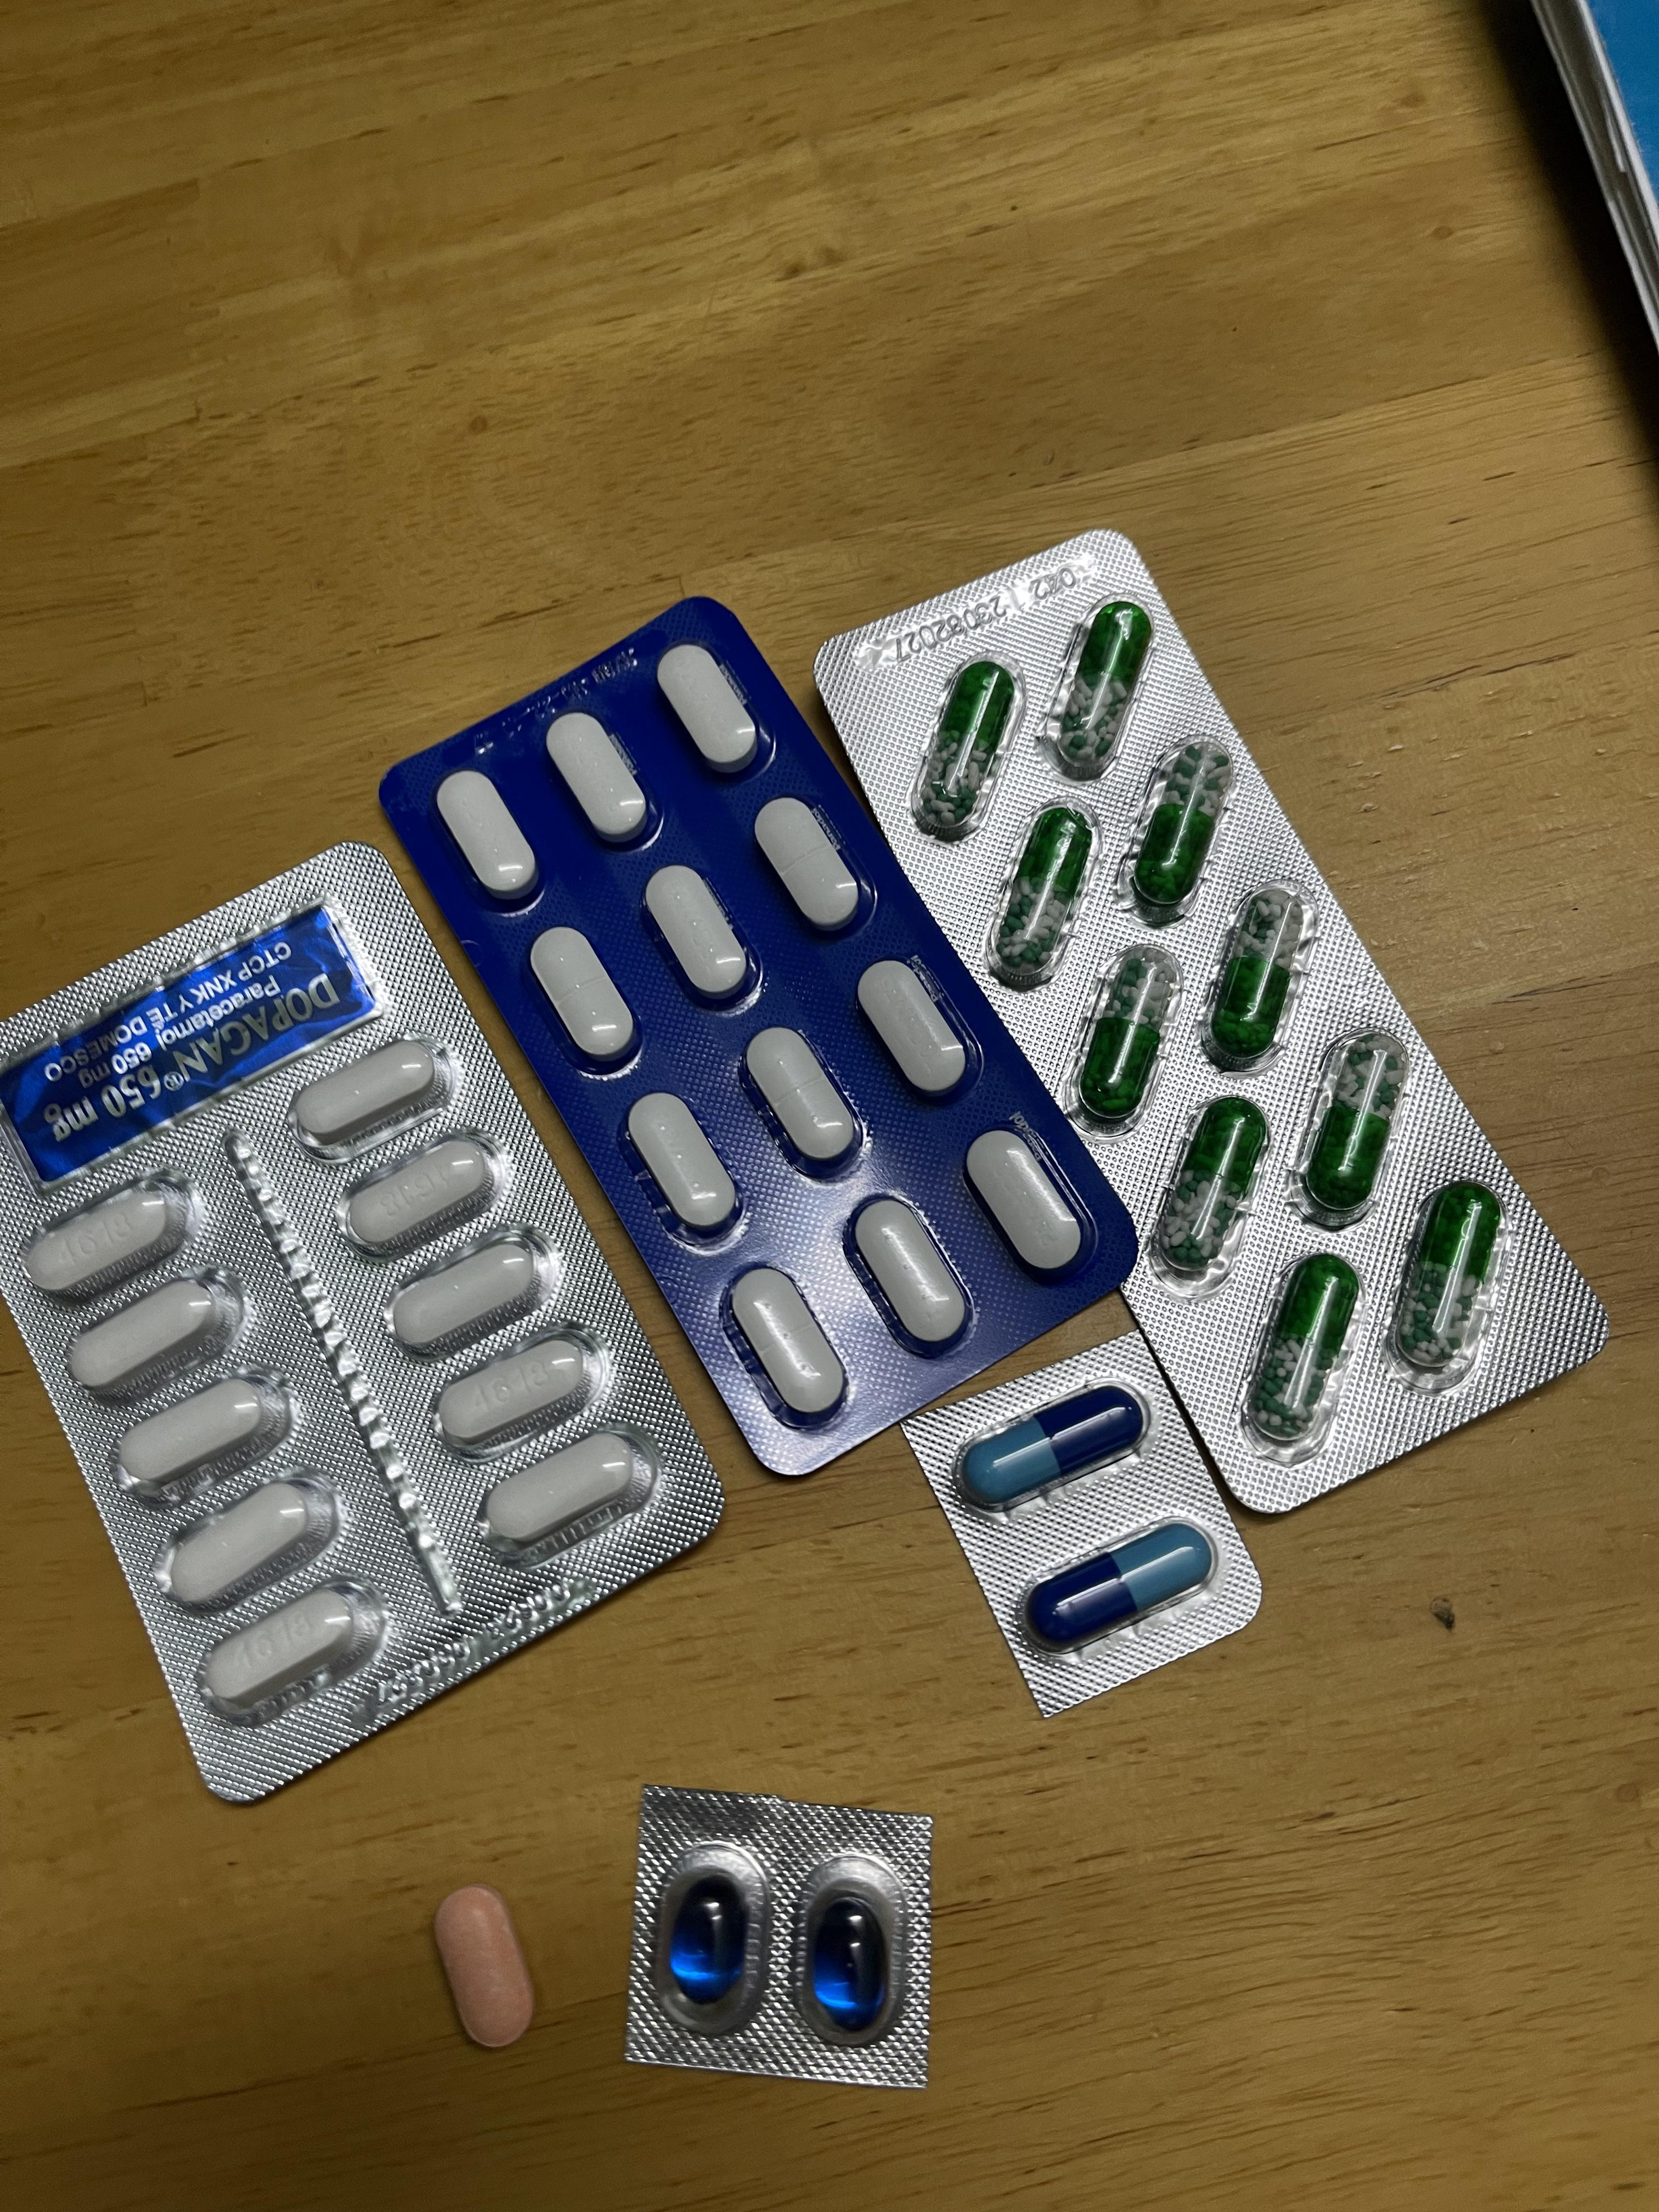Lincomyxin_500mg: (669, 1878, 748, 1998), (810, 1898, 887, 2020)
Loratadine_10mg: (432, 1885, 537, 2047)
Paracetamol_350mg: (849, 1191, 971, 1348), (727, 1266, 847, 1421), (965, 1125, 1087, 1277), (741, 1024, 861, 1170), (856, 956, 972, 1103), (624, 1090, 741, 1235), (641, 862, 753, 1007), (528, 925, 638, 1069), (755, 798, 864, 937), (545, 711, 652, 845), (657, 643, 763, 775), (436, 768, 538, 900)
Paracetamol_500mg: (152, 1468, 342, 1609), (199, 1580, 390, 1714), (64, 1268, 251, 1402), (108, 1364, 295, 1496), (427, 1318, 605, 1454), (474, 1428, 655, 1561), (19, 1169, 200, 1296), (382, 1228, 558, 1355), (336, 1130, 504, 1252), (282, 1036, 450, 1153)
Paracetamol_650mg: (1297, 1031, 1410, 1219), (1248, 1254, 1358, 1447), (1155, 1096, 1269, 1278), (1202, 883, 1316, 1064), (1122, 738, 1236, 918), (1042, 597, 1152, 775), (1398, 1186, 1499, 1374), (992, 803, 1096, 977), (1077, 948, 1180, 1118), (918, 662, 1019, 831)
pill: (1030, 1524, 1209, 1646), (965, 1386, 1141, 1503)
